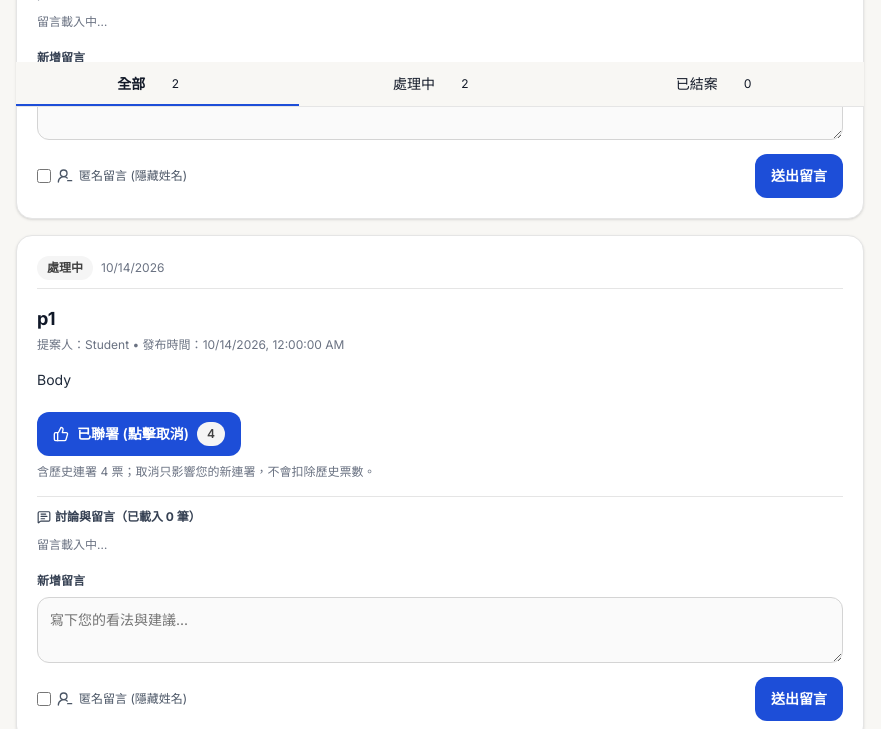
Test: keeps the server ballot and exact count after a rejected add/cancel (voted=true)
The width and height of the screenshot is (881, 729).
(page scrolled)
Expected: the heading "p1" is shown, [37,308,56,329]
Click the button "已聯署 (點擊取消) 4" at (139, 434), box [37,412,241,456]
(page scrolled)
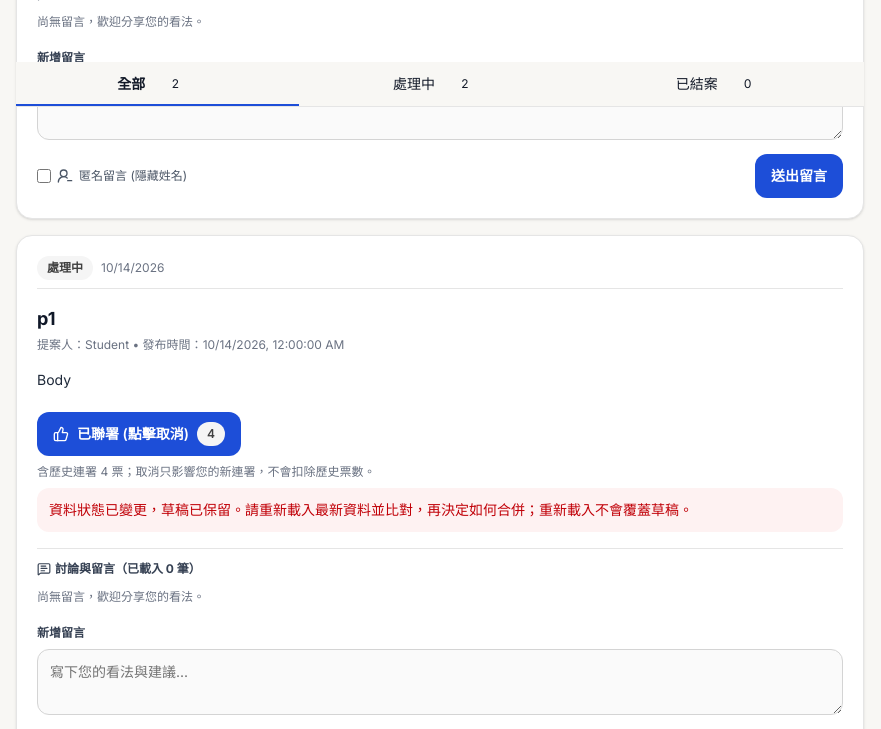
Expected: the text "4" is shown, [197,422,225,446]
Now the message "資料狀態已變更，草稿已保留。請重新載入最新資料並比對，再決定如何合併；重新載入不會覆蓋草稿。" is shown, box [37,488,843,532]
